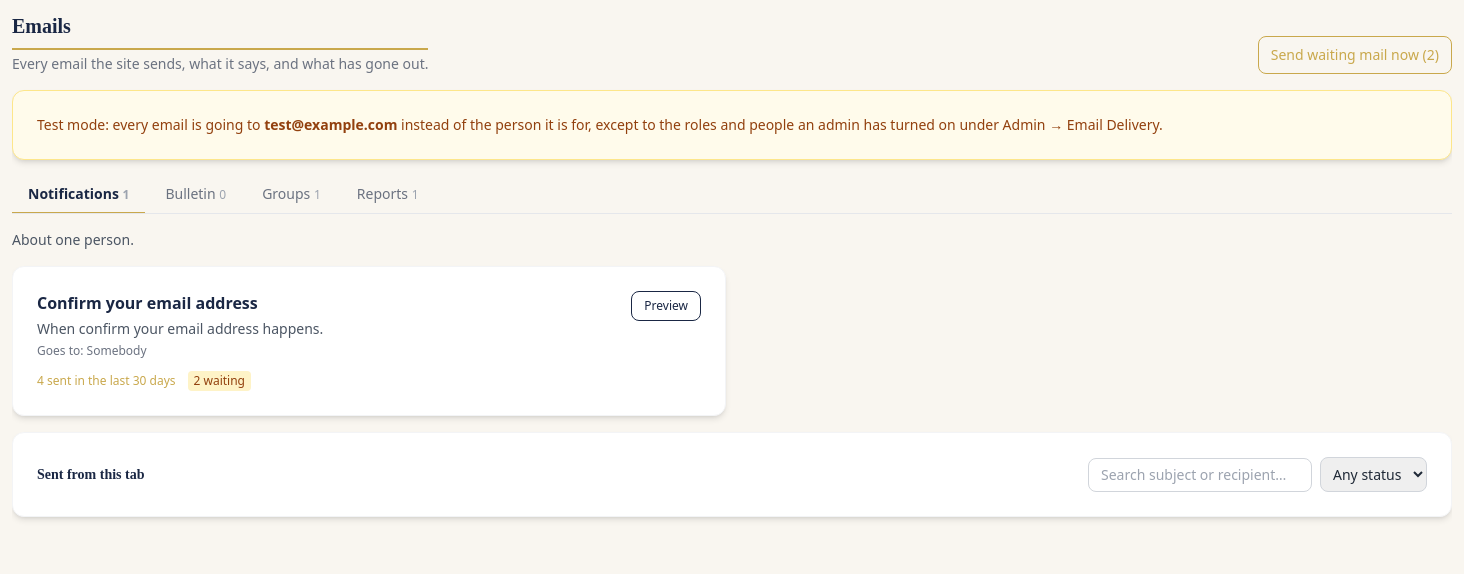
EmailsView › clicking a count narrows the history to that one email
Click the button "4 sent in the last 30 days".
click(106, 381)  # box [37, 373, 176, 389]
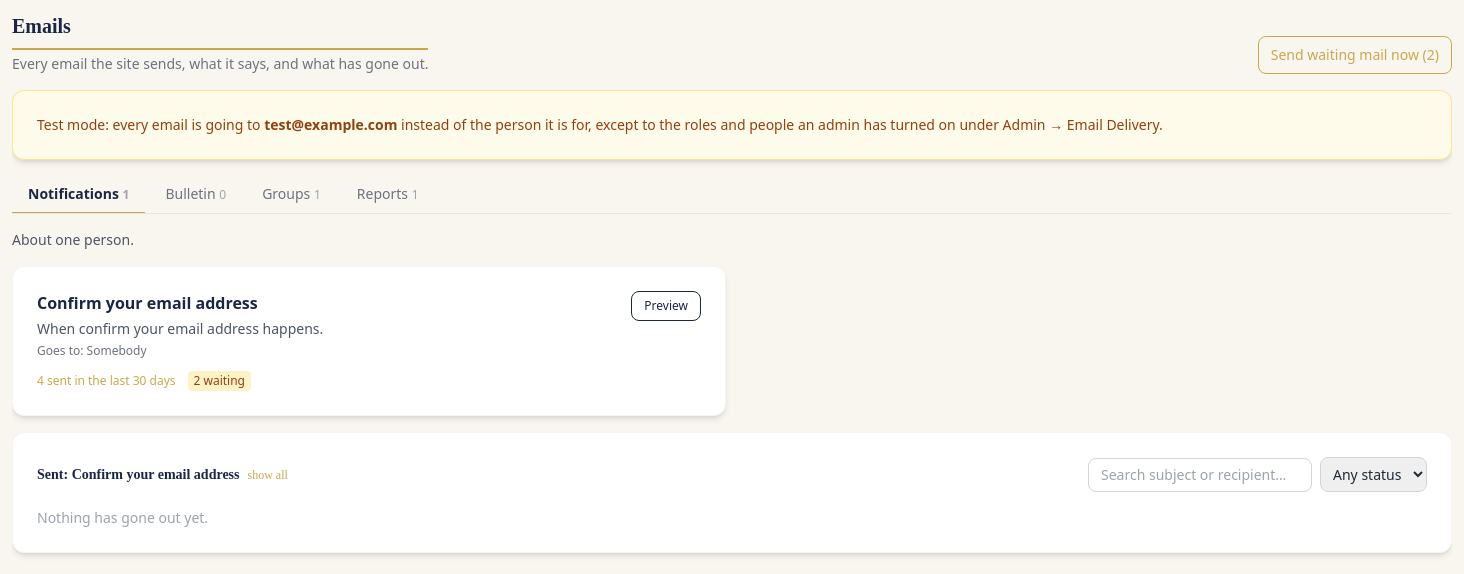
Result: the heading "Sent: Confirm your email address show all" is shown at [37, 464, 288, 484]
